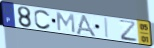8: (17, 6, 33, 29)
A: (75, 14, 99, 38)
C: (34, 9, 52, 30)
I: (104, 17, 110, 39)
M: (56, 11, 77, 34)
Z: (117, 19, 139, 43)
